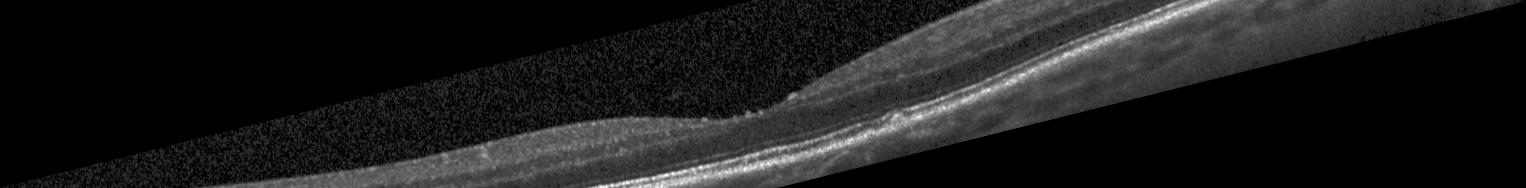retinal_drusen: (892, 115, 906, 130), (879, 128, 891, 136), (866, 131, 877, 139)
